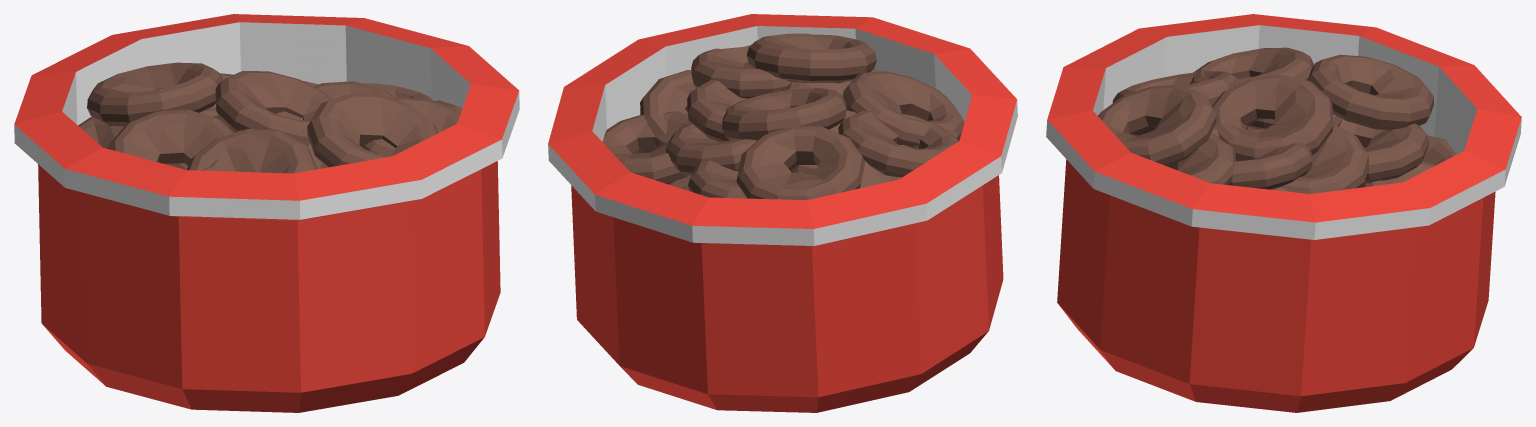
File: basicKibble.fbx
The picture shows the model from 3 angles, left to right: view 1: azimuth 30°, elevation 25°; view 2: azimuth 150°, elevation 25°; view 3: azimuth 270°, elevation 25°; orthographic projection. The views are drawn at different scales.
Visible parts, largest first — view 1: mesh_167213338, mesh_2022856283, mesh_1059981624, mesh_949139251, mesh_210521422, mesh_198920233, mesh_1177576522, mesh_1194427986, mesh_1827996599, mesh_1960826985; view 2: mesh_167213338, mesh_1059981624, mesh_198920233, mesh_2022856283, mesh_949139251, mesh_210521422, mesh_1960826985, mesh_1177576522, mesh_929171248, mesh_1987701989, mesh_1194427986, mesh_922063304 (+2 smaller); view 3: mesh_167213338, mesh_949139251, mesh_1059981624, mesh_2022856283, mesh_929171248, mesh_922063304, mesh_210521422, mesh_1194427986, mesh_1177576522, mesh_198920233, mesh_1419343585, mesh_550390588.
Boxes of the visible parts, left/top/right/bottom form: mesh_167213338: left=14, top=14, right=519, bottom=412; mesh_2022856283: left=307, top=93, right=438, bottom=167; mesh_1059981624: left=87, top=62, right=223, bottom=126; mesh_949139251: left=215, top=71, right=332, bottom=145; mesh_210521422: left=108, top=109, right=233, bottom=171; mesh_198920233: left=186, top=129, right=316, bottom=173; mesh_1177576522: left=359, top=97, right=460, bottom=154; mesh_1194427986: left=314, top=81, right=394, bottom=98; mesh_1827996599: left=78, top=117, right=123, bottom=148; mesh_1960826985: left=363, top=83, right=433, bottom=100; mesh_167213338: left=548, top=14, right=1017, bottom=412; mesh_1059981624: left=736, top=126, right=864, bottom=200; mesh_198920233: left=843, top=71, right=964, bottom=146; mesh_2022856283: left=746, top=33, right=876, bottom=83; mesh_949139251: left=722, top=88, right=846, bottom=140; mesh_210521422: left=838, top=110, right=958, bottom=177; mesh_1960826985: left=602, top=111, right=690, bottom=184; mesh_1177576522: left=691, top=45, right=791, bottom=98; mesh_929171248: left=665, top=123, right=757, bottom=175; mesh_1987701989: left=640, top=70, right=696, bottom=149; mesh_1194427986: left=687, top=80, right=747, bottom=142; mesh_922063304: left=688, top=160, right=802, bottom=198; mesh_167213338: left=1046, top=14, right=1521, bottom=412; mesh_949139251: left=1212, top=74, right=1333, bottom=160; mesh_1059981624: left=1307, top=54, right=1433, bottom=130; mesh_2022856283: left=1098, top=84, right=1216, bottom=166; mesh_929171248: left=1265, top=125, right=1368, bottom=193; mesh_922063304: left=1339, top=119, right=1429, bottom=183; mesh_210521422: left=1190, top=47, right=1313, bottom=85; mesh_1194427986: left=1229, top=129, right=1312, bottom=189; mesh_1177576522: left=1167, top=133, right=1235, bottom=184; mesh_198920233: left=1112, top=71, right=1237, bottom=105; mesh_1419343585: left=1422, top=135, right=1456, bottom=165; mesh_550390588: left=1363, top=161, right=1435, bottom=187.
Size of the model in its own units: 18.09 by 10.69 by 18.1.
